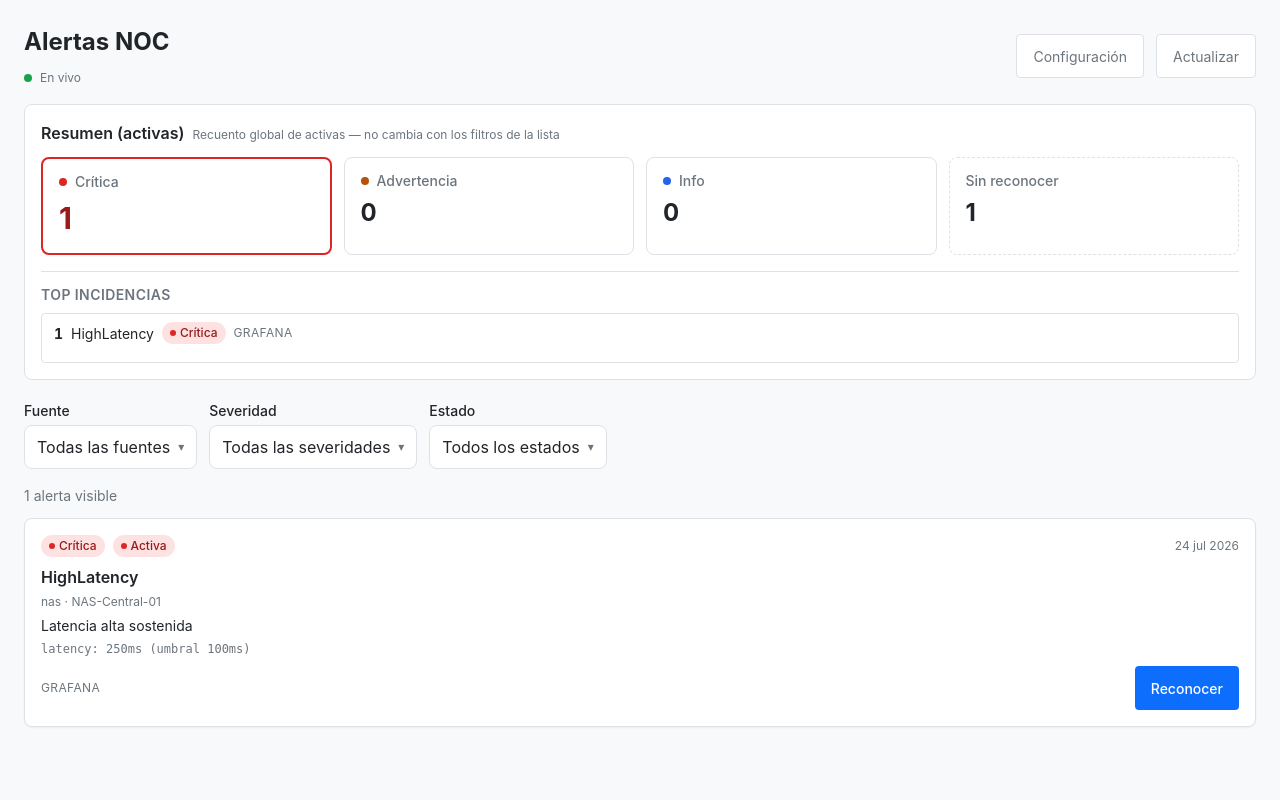
Scenario: ALP-3 empty › shows "limpiar filtros" CTA when filters narrow to zero results
What coordinates should you click on to do the following:
click the dropdown labelled "Todas las fuentes ▾"
I would click on:
 (111, 447)
Its box is x1=24 y1=425 x2=197 y2=469.
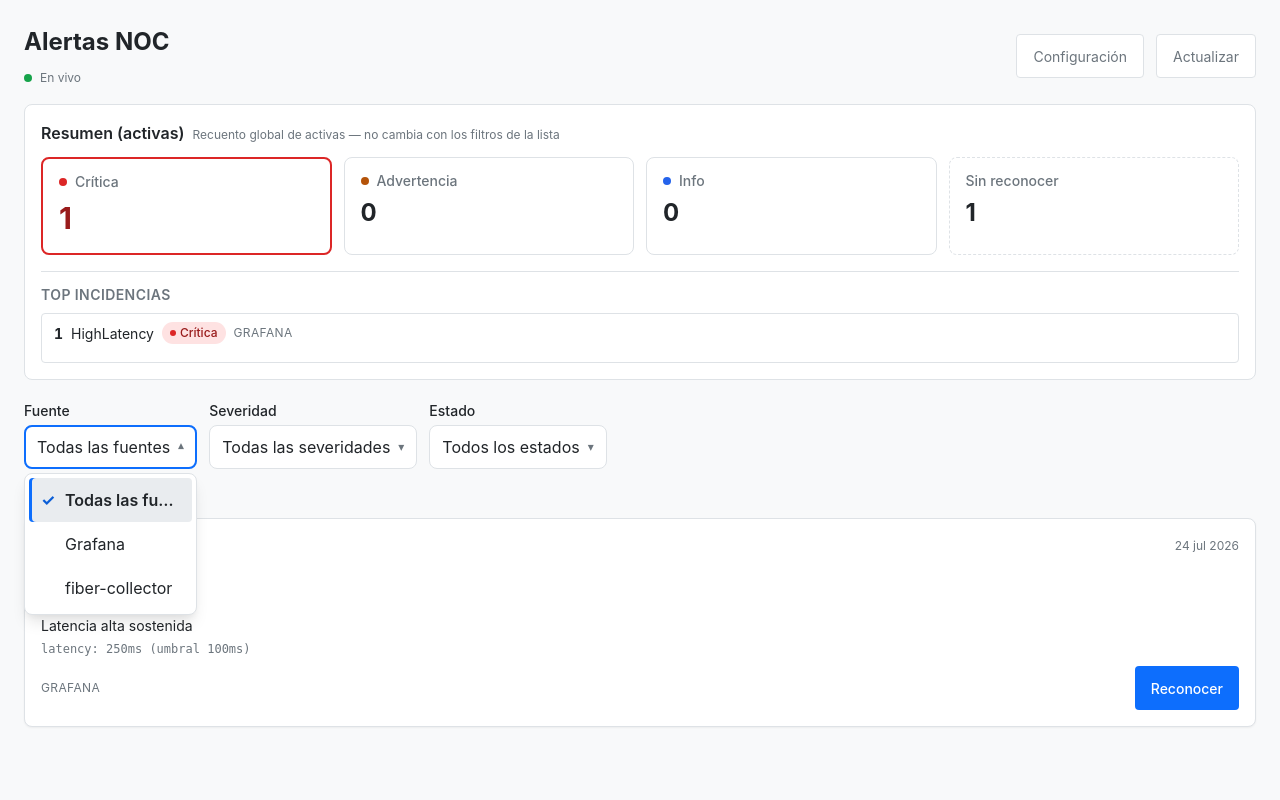
What coordinates should you click on to do the following:
click the option "fiber-collector"
I would click on:
 (119, 588)
Its box is x1=65 y1=578 x2=172 y2=598.
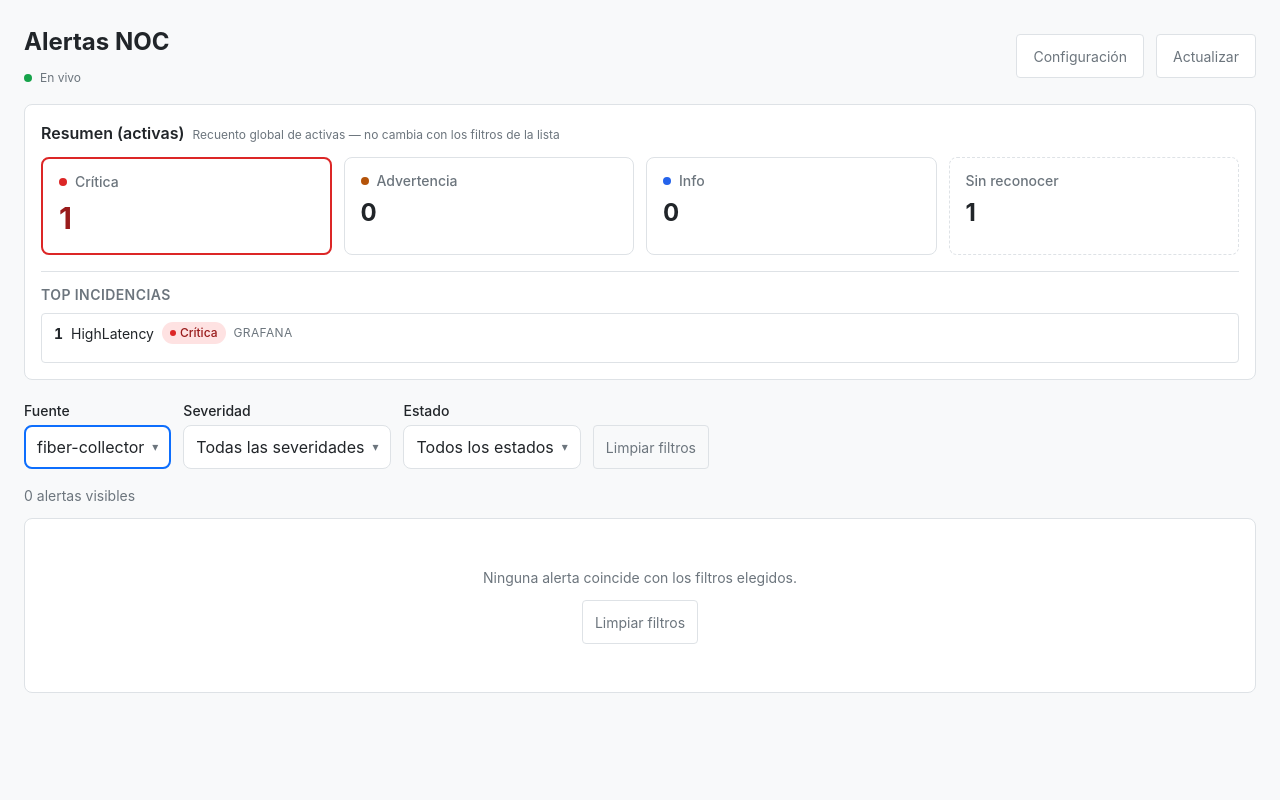
Check: the text "Ninguna alerta coincide con los filtros elegidos." is shown, box x1=483 y1=569 x2=797 y2=586
Check: the 1st button "Limpiar filtros" is shown, box x1=593 y1=425 x2=709 y2=469
